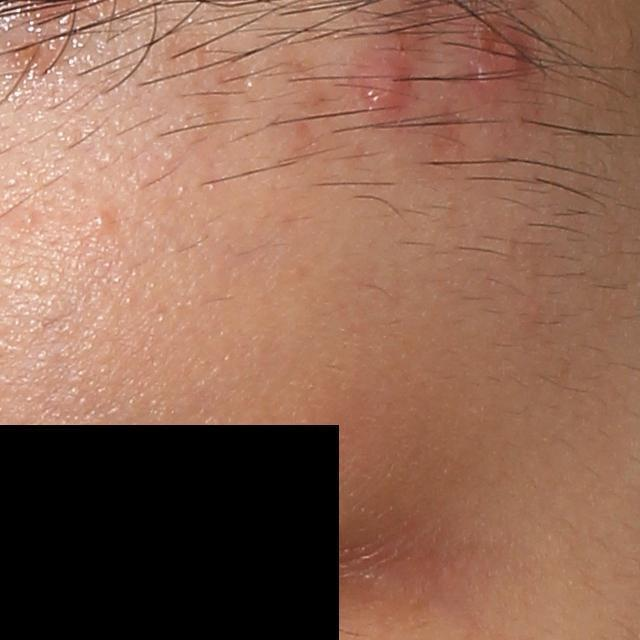papule: (358, 51, 412, 124), (486, 29, 532, 88)
